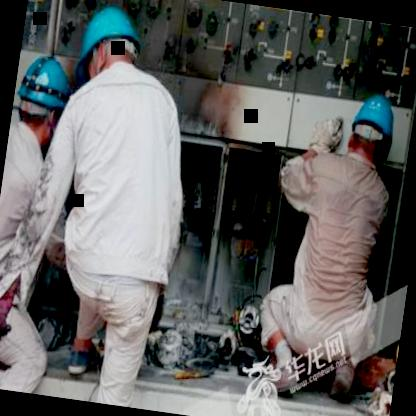helmet: (72, 0, 148, 96), (11, 49, 74, 150), (342, 90, 398, 173)
